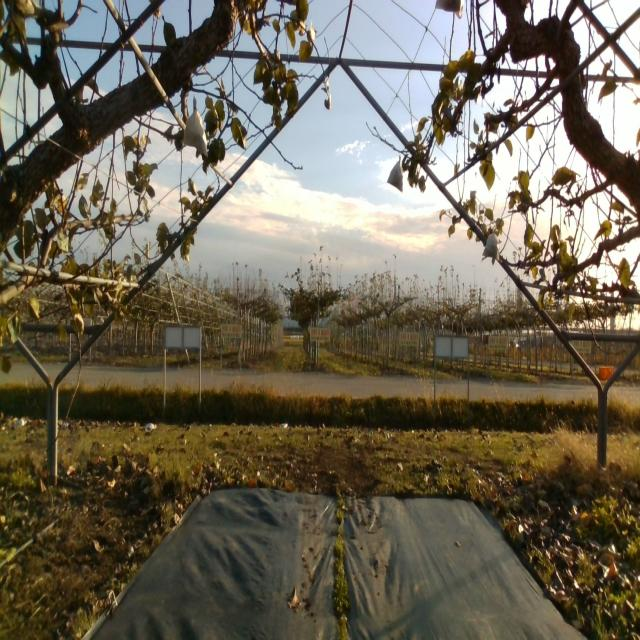pearbags: (182, 98, 210, 158), (386, 156, 403, 193), (482, 232, 502, 260)
